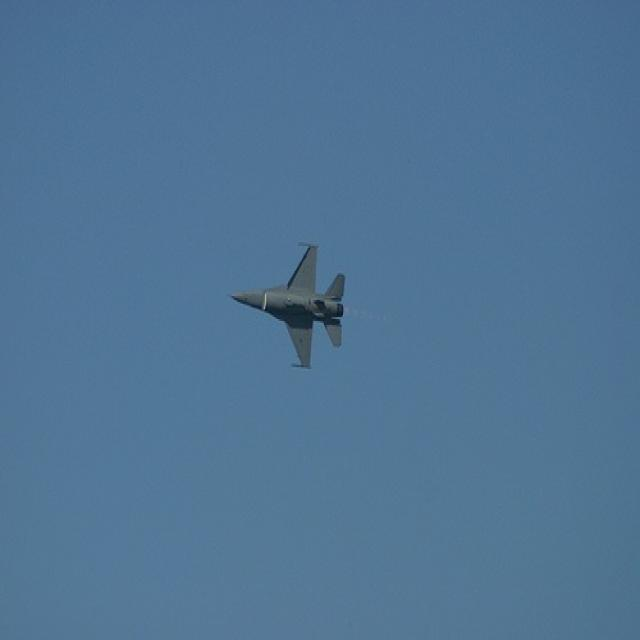aeroplane: (232, 243, 351, 370)
